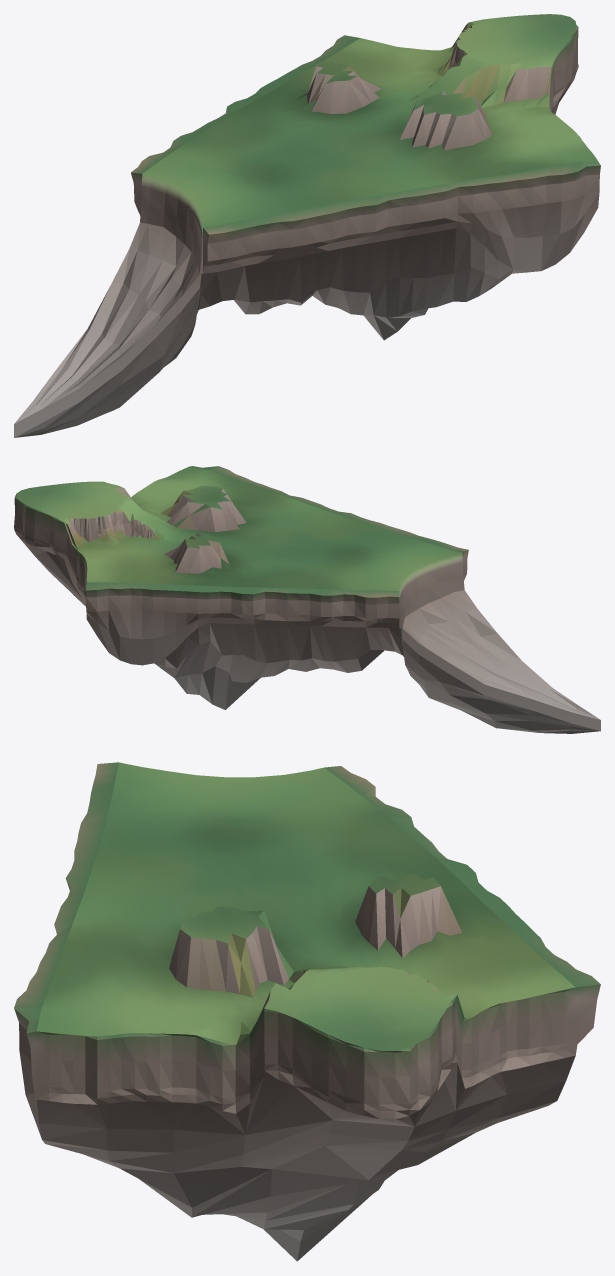
The model's file is piece_islet.glb.
3 views of the same model, one above another, from view 1: azimuth 30°, elevation 25°; view 2: azimuth 150°, elevation 25°; view 3: azimuth 270°, elevation 25° (orthographic). The views are drawn at different scales.
Visible parts, largest first — view 1: piece_islet, skirt_meadow, skirt_grove; view 2: piece_islet, skirt_grove, skirt_meadow; view 3: piece_islet, skirt_meadow, skirt_grove.
Boxes of the visible parts, <box> form: piece_islet: <box>14,14,597,437</box>; skirt_meadow: <box>203,161,600,273</box>; skirt_grove: <box>131,35,359,215</box>; piece_islet: <box>14,466,600,733</box>; skirt_grove: <box>86,582,399,665</box>; skirt_meadow: <box>190,466,468,580</box>; piece_islet: <box>36,762,575,1261</box>; skirt_meadow: <box>14,762,118,1138</box>; skirt_grove: <box>324,766,600,1054</box>.
Bounding box in the file's own units: 29.07 × 10.49 × 15.6.
